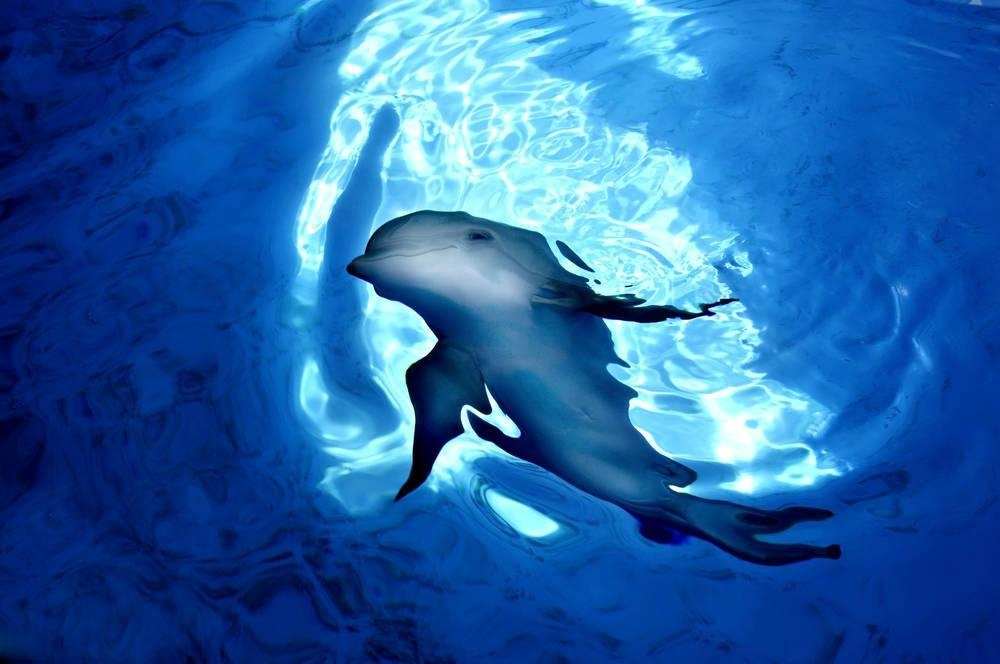fish: (346, 223, 843, 566)
